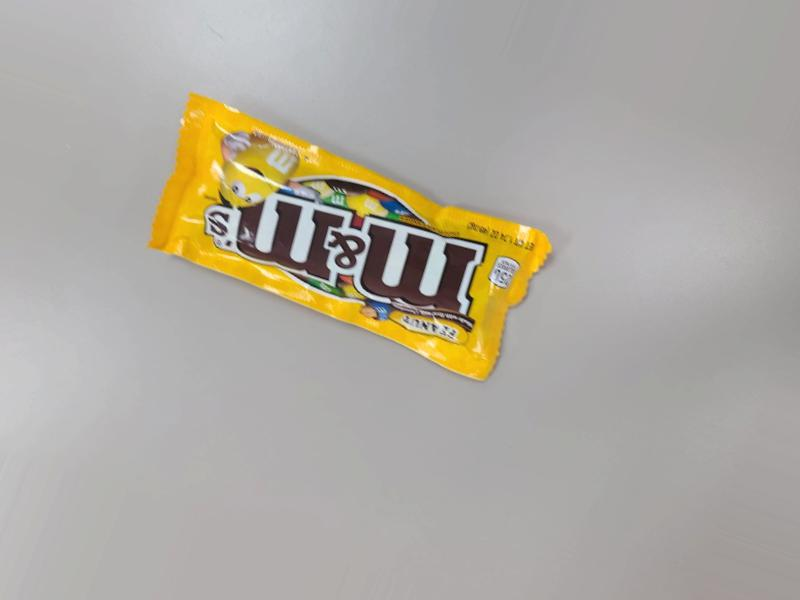m&m: (148, 72, 578, 390)
